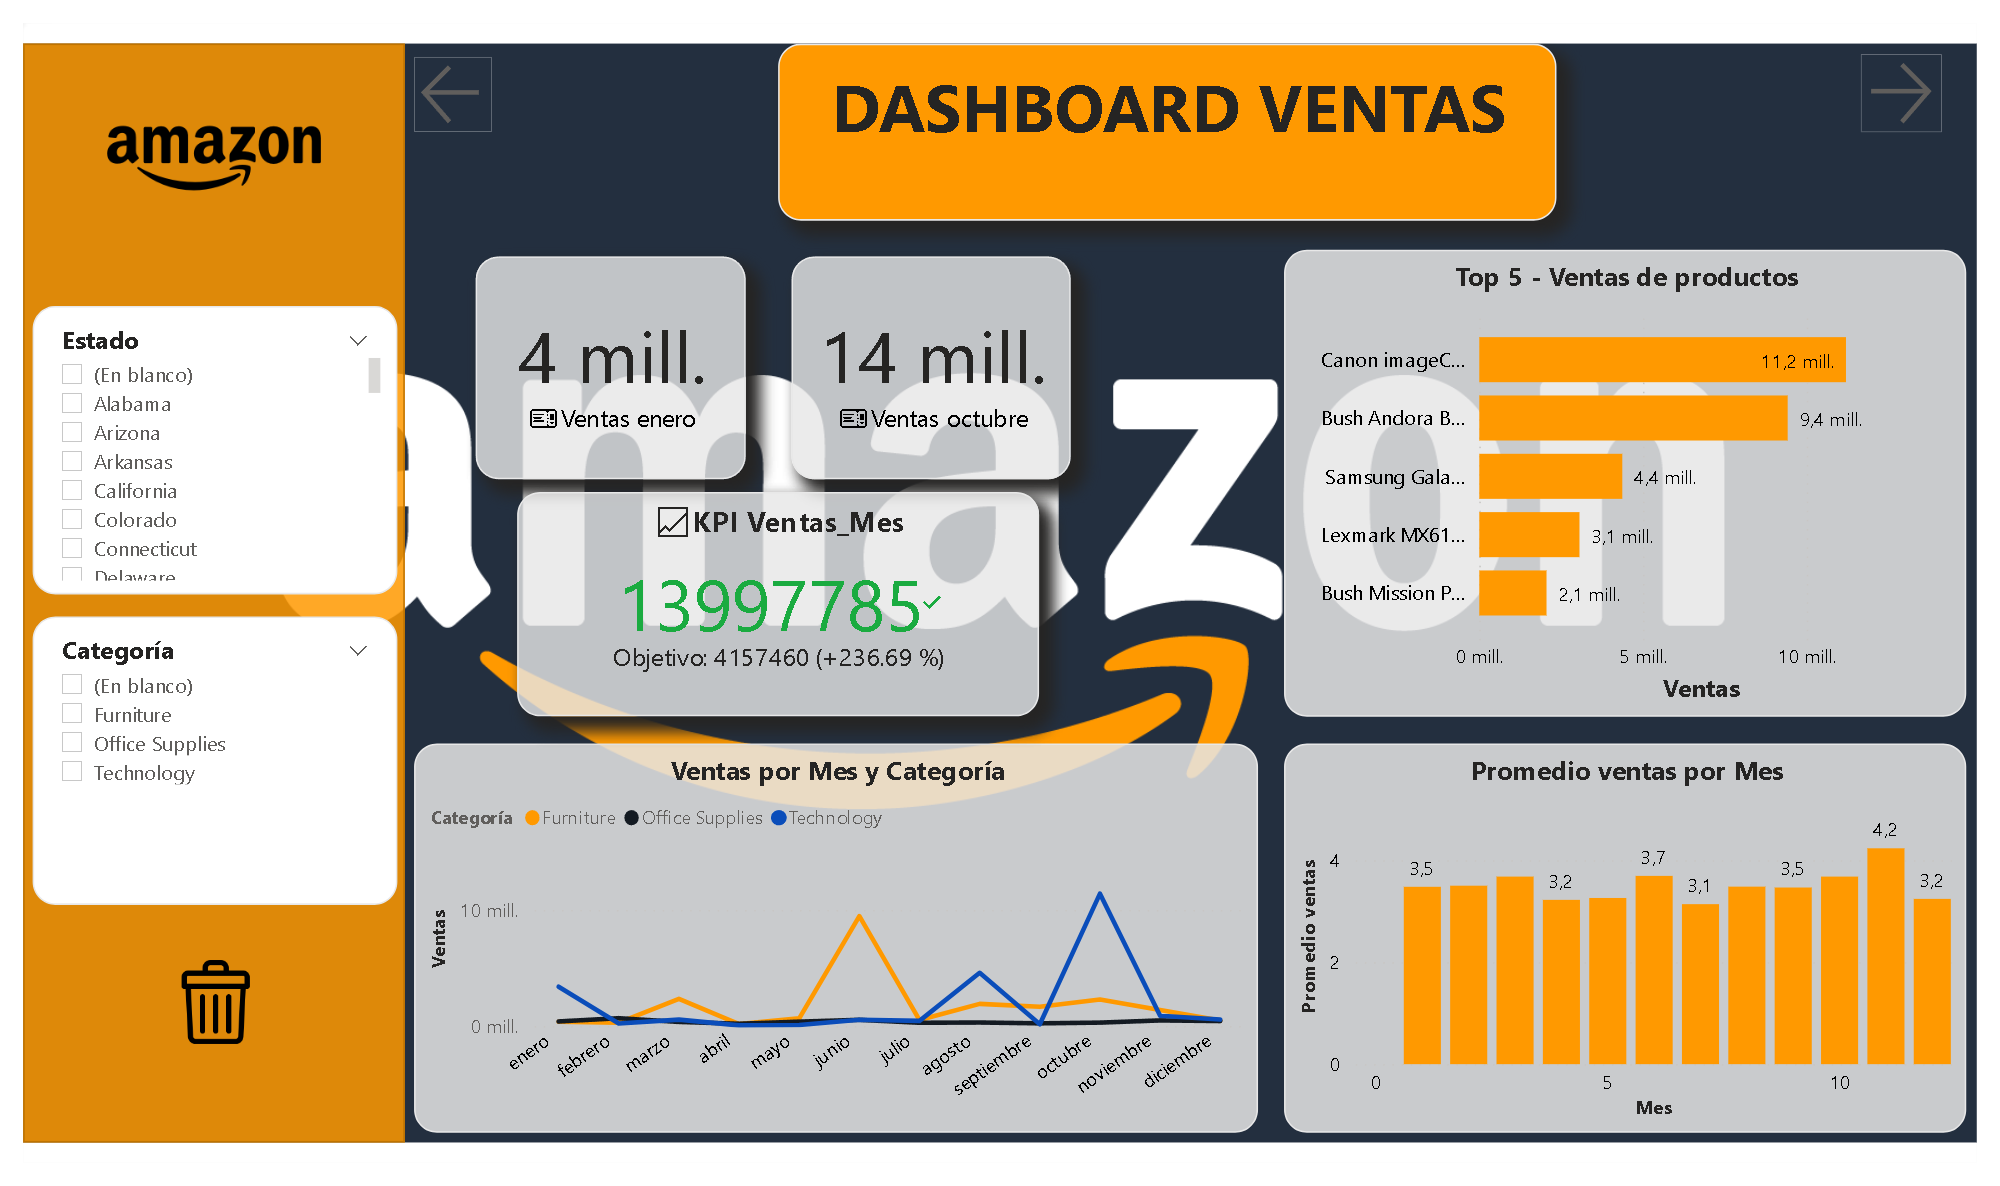

This screenshot's page, from the dashboard's own definition file:
{"tool":"powerbi","page":{"name":"Ventas","canvas":[1280,720],"ordinal":2},"visuals":[{"type":"shape","box":[0,0,249.9,720],"z":0},{"type":"columnChart","fields":{"Category":["Tabla Calendario.Mes"],"Y":["Medidas.Promedio ventas"]},"box":[826.1,458.7,447.3,255.2],"z":1000},{"type":"card","fields":{"Values":["Medidas.Ventas_enero"]},"box":[296.4,139.4,177.1,146.5],"z":2000},{"type":"card","fields":{"Values":["Medidas.Ventas_noviembre"]},"box":[503.4,139.4,183.3,146.5],"z":3000},{"type":"lineChart","title":"Ventas por Mes y Categoría","fields":{"Y":["Sum(Ventas (2).Ventas)"],"Category":["Tabla Calendario.Nombre_mes"],"Series":["Productos.Categoría"]},"box":[256.1,458.7,553.4,255.2],"z":4000},{"type":"slicer","fields":{"Values":["Logistica.Estado"]},"box":[6.1,171.9,238.5,188.6],"z":5000},{"type":"slicer","fields":{"Values":["Productos.Categoría"]},"box":[6.1,375.3,238.5,188.6],"z":6000},{"type":"textbox","box":[494.6,0,510.4,115.8],"z":7000},{"type":"actionButton","box":[256.1,8.8,50.9,49.1],"z":8000},{"type":"kpi","title":"📈KPI Ventas_Mes","fields":{"Goal":["Medidas.Ventas_enero"],"Indicator":["Medidas.Ventas_octubre"],"TrendLine":["Tabla Calendario.Mes"]},"box":[323.6,293.8,342,147.3],"z":9000},{"type":"image","box":[88.6,595.5,73.7,64.9],"z":10000},{"type":"image","box":[0,0,249.9,150],"z":11000},{"type":"clusteredBarChart","title":"Top 5 - Ventas de productos","fields":{"Y":["Sum(Ventas (2).Ventas)"],"Category":["Productos.nombre_producto"]},"box":[826.1,135.1,447.3,306.1],"z":12000},{"type":"actionButton","box":[1204.1,7,52.6,50.9],"z":13000}]}

Visuals, with their boxes in screenshot pixels (x1, y1, x2, y2):
shape: <box>10,36,395,1146</box>
columnChart - Tabla Calendario.Mes x Medidas.Promedio ventas: <box>1283,743,1973,1137</box>
card - Medidas.Ventas_enero: <box>467,251,740,477</box>
card - Medidas.Ventas_noviembre: <box>786,251,1069,477</box>
"Ventas por Mes y Categoría" lineChart: <box>405,743,1258,1137</box>
slicer - Logistica.Estado: <box>20,301,387,592</box>
slicer - Productos.Categoría: <box>20,615,387,905</box>
textbox: <box>773,36,1559,215</box>
actionButton: <box>405,50,483,126</box>
"📈KPI Ventas_Mes" kpi: <box>509,489,1036,716</box>
image: <box>147,954,261,1054</box>
image: <box>10,36,395,268</box>
"Top 5 - Ventas de productos" clusteredBarChart: <box>1283,245,1973,716</box>
actionButton: <box>1866,47,1947,126</box>
